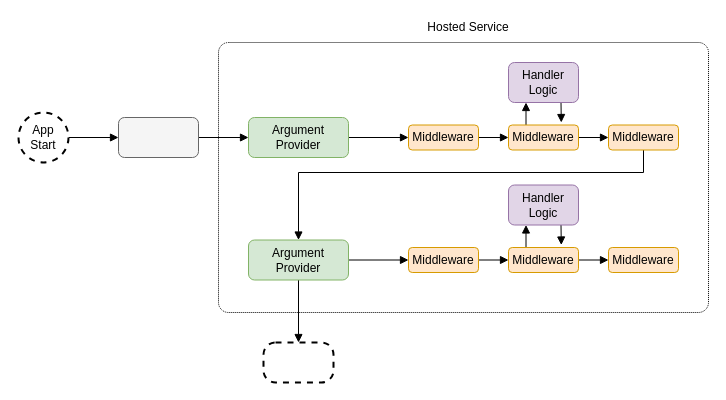
Image size: 726x400. Some labels were removed from this diagram. The centre of each missing label's shape, as x and y in pixels:
App Exit: the point at 298,362
Configuration: the point at 158,137
